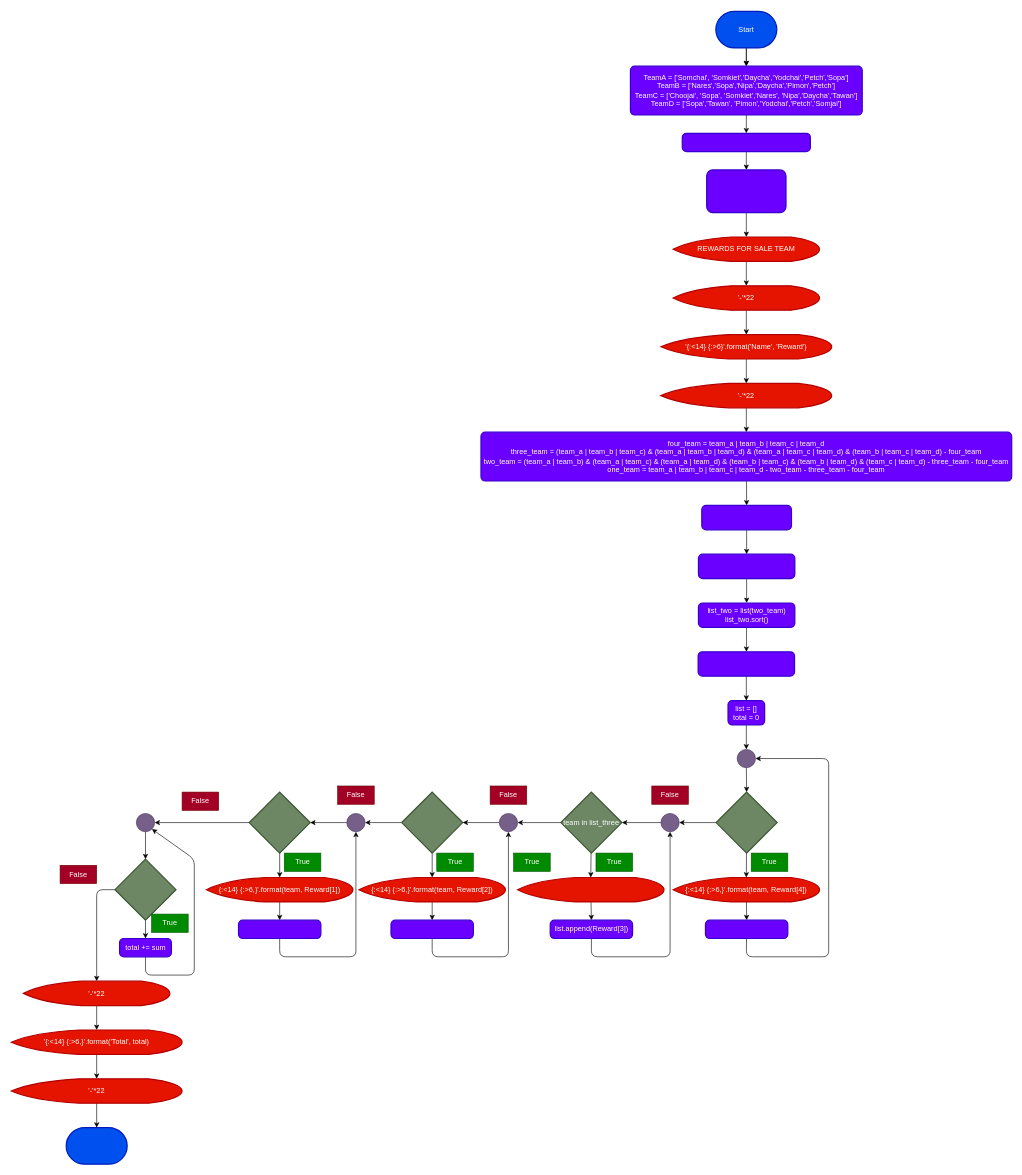
The diagram is 1022 pixels wide and 1175 high, and some of its shapes have lost their labels. The shapes that lost their labels are listed below. From the top down, each one's centre as x and y in pixels, then its label:
[746,142]: Reward = [0,5000,7500,10000,15000]
[746,191]: team_a = set(TeamA) team_b = set(TeamB) team_c = set(TeamC) team_d = set(TeamD)
[746,517]: list_four = list(four_team) list_four.sort()
[746,566]: list_three = list(three_team) list_three.sort()
[746,663]: list_one = list(one_team) list_one.sort()
[279,822]: team in list_one
[432,822]: team in list_two
[746,822]: team in list_four
[145,889]: sum in list
[590,889]: {:<14} {:>6,}'.format(team, Reward[3])
[279,929]: list.append(Reward[1])
[432,929]: list.append(Reward[2])
[746,929]: list.append(Reward[4])
[96,1145]: End
